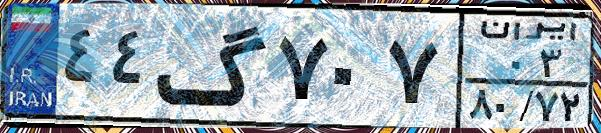0: (330, 28, 385, 110), (508, 27, 537, 80), (495, 70, 520, 125)
2: (560, 70, 590, 125)
3: (537, 27, 568, 80)
4: (57, 26, 110, 100), (110, 28, 156, 98)
7: (270, 28, 330, 110), (385, 28, 445, 110), (535, 70, 560, 125)
8: (470, 70, 495, 125)
گ: (156, 12, 270, 120)
